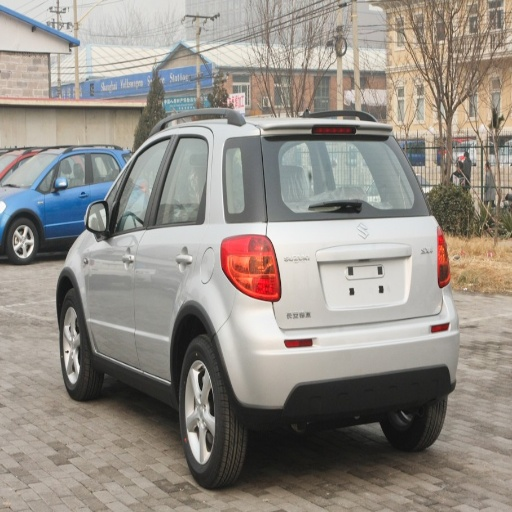back_bumper: (216, 287, 455, 430)
back_glass: (227, 132, 427, 213)
back_left_door: (136, 130, 213, 378)
tailgate: (272, 212, 434, 329)
